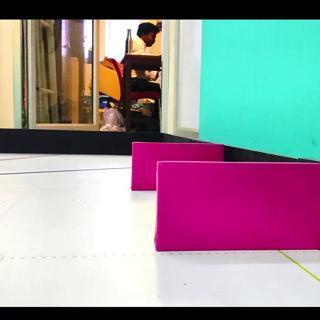xparking: (157, 163, 294, 250), (132, 145, 155, 189)
